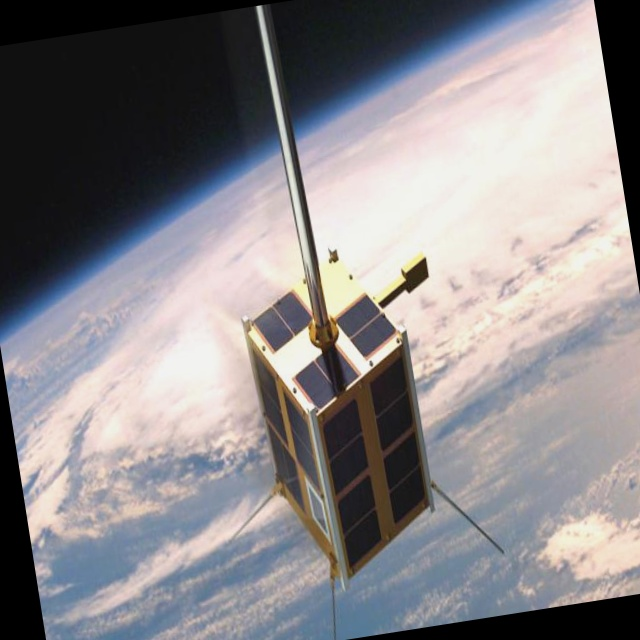satellite: (216, 207, 481, 596)
